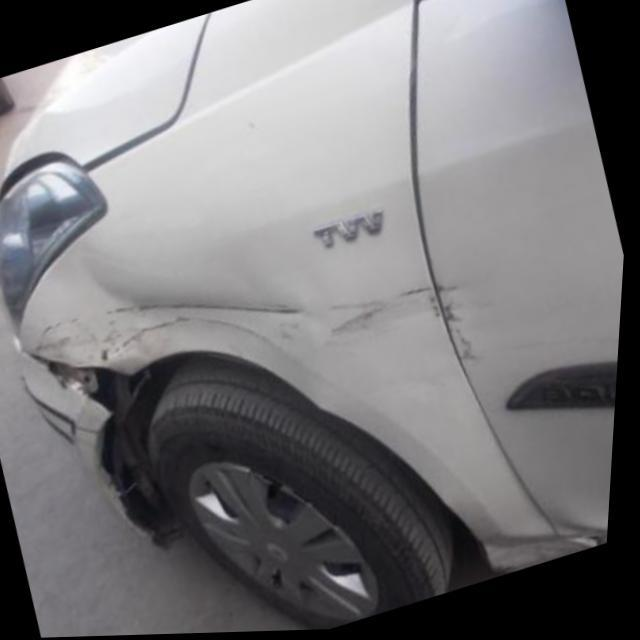dent: (107, 300, 307, 355), (493, 532, 615, 578)
dislocated part: (27, 346, 146, 451)
rub: (396, 280, 485, 368)
scratch: (323, 298, 389, 348)
